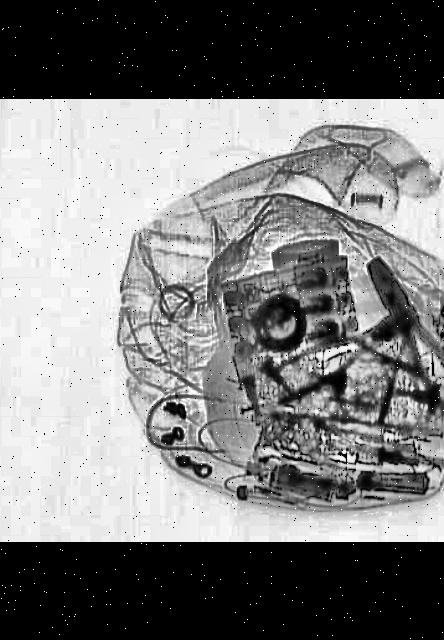Pliers: (347, 251, 444, 447), (251, 307, 411, 405)
